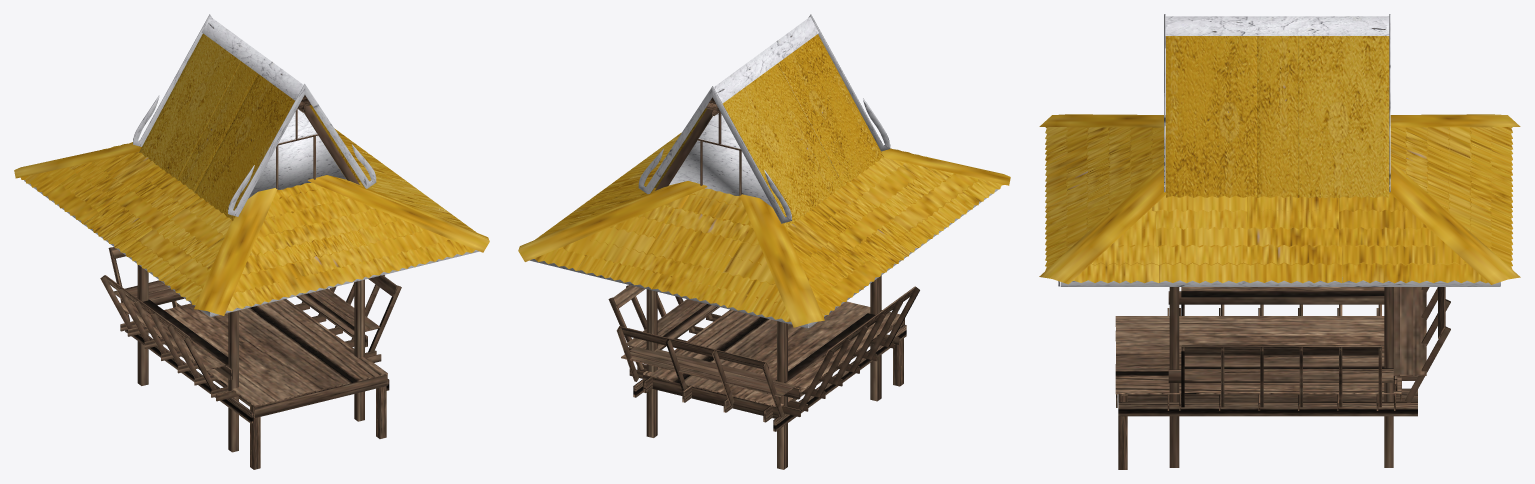
File: mdl_namo_pavilion.gltf
The picture shows the model from 3 angles, left to right: view 1: azimuth 30°, elevation 25°; view 2: azimuth 150°, elevation 25°; view 3: azimuth 270°, elevation 25°; orthographic projection. The views are drawn at different scales.
Parts seen in each view (by area): view 1: d, c, e, b, a; view 2: d, c, e, b, a; view 3: d, c, e, b, a.
Boxes of the visible parts, <box> form: d: <box>14,128,489,315</box>; c: <box>100,95,401,469</box>; e: <box>139,33,363,220</box>; b: <box>133,14,376,216</box>; a: <box>24,180,479,316</box>; d: <box>518,132,1010,327</box>; c: <box>608,64,919,469</box>; e: <box>651,34,883,228</box>; b: <box>638,14,890,223</box>; a: <box>530,189,998,328</box>; d: <box>1039,114,1520,284</box>; c: <box>1115,36,1450,469</box>; e: <box>1166,36,1389,198</box>; b: <box>1164,14,1390,192</box>; a: <box>1058,277,1500,286</box>.
Bounding box in the file's own units: 3.42 × 3.93 × 4.08.
1 material, 1 textured.
